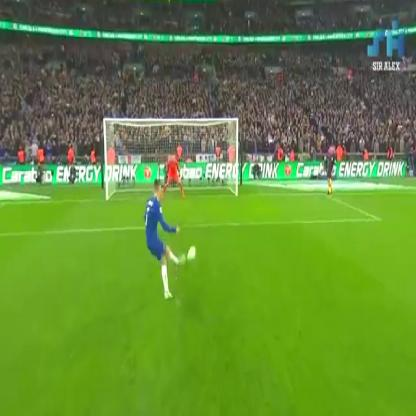penalty kick: (139, 88, 206, 354)
